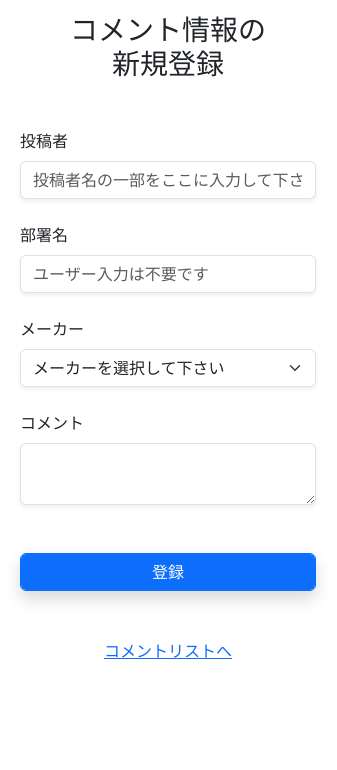
Test: CommentsNewView › メーカーと表面処理の連動 › メーカーの候補がある場合 › メーカーが選択可能になり、メーカーを選択後に表面処理の候補が表示されること
Select "東亜電化工業株式会社" in the dropdown with id "makers" at [168, 368], box x1=20 y1=349 x2=316 y2=387
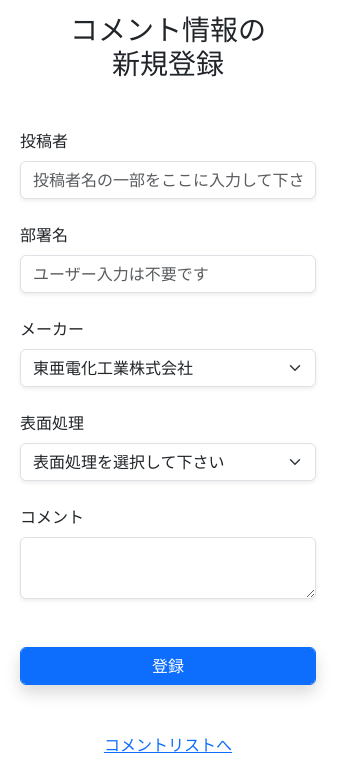
Check: the dropdown with id "samples" is shown, box x1=20 y1=443 x2=316 y2=481
